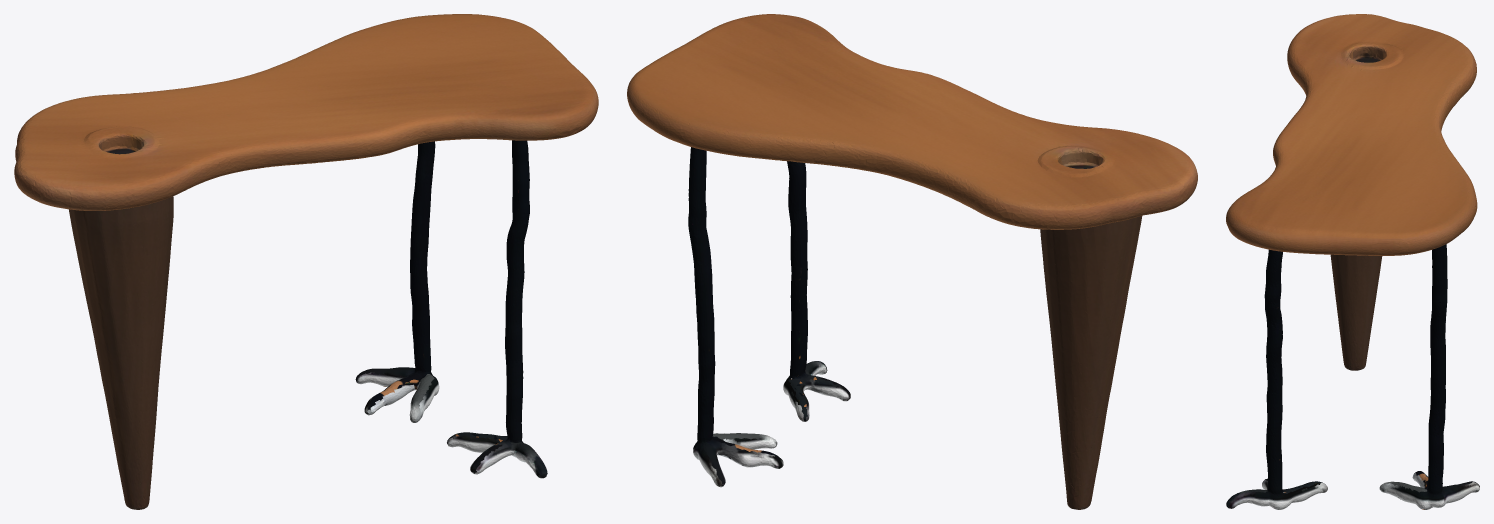
3 views of the same model, side by side, from view 1: azimuth 30°, elevation 25°; view 2: azimuth 150°, elevation 25°; view 3: azimuth 270°, elevation 25° (orthographic). The views are drawn at different scales.
Visible parts, largest first — view 1: world; view 2: world; view 3: world.
Boxes of the visible parts, x1=… form: world: x1=14, y1=14, x2=598, y2=509; world: x1=627, y1=14, x2=1197, y2=509; world: x1=1226, y1=14, x2=1479, y2=509.
Bounding box in the file's own units: 1.99 × 1.28 × 0.9448.
Materials: 1 (1 with a texture image).
